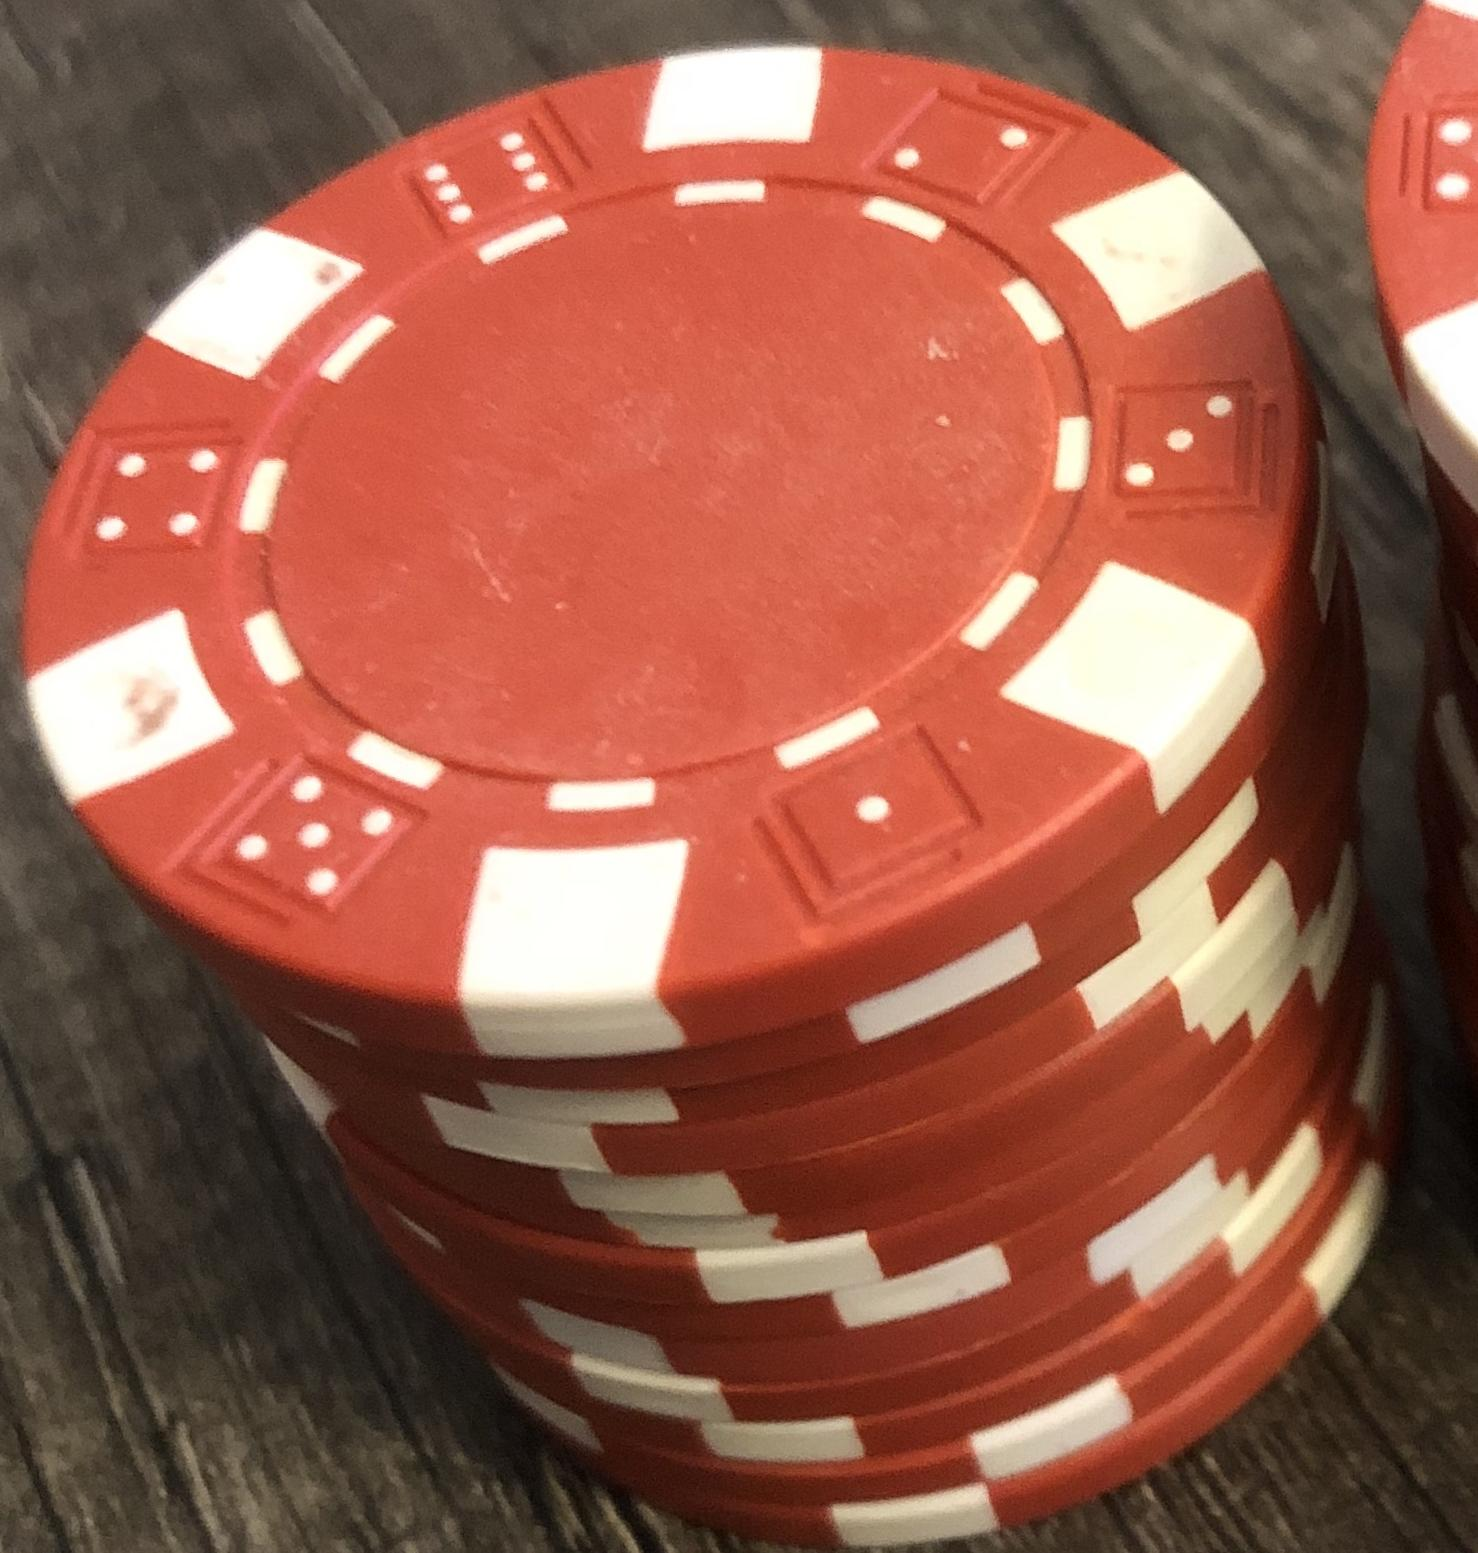Chip: (1, 1, 1478, 1553)
